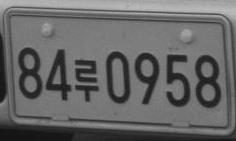0: (105, 51, 130, 103)
4: (45, 48, 71, 99)
5: (165, 54, 191, 107)
8: (194, 53, 222, 107), (17, 46, 43, 99)
9: (134, 51, 159, 104)
루: (73, 58, 99, 102)
